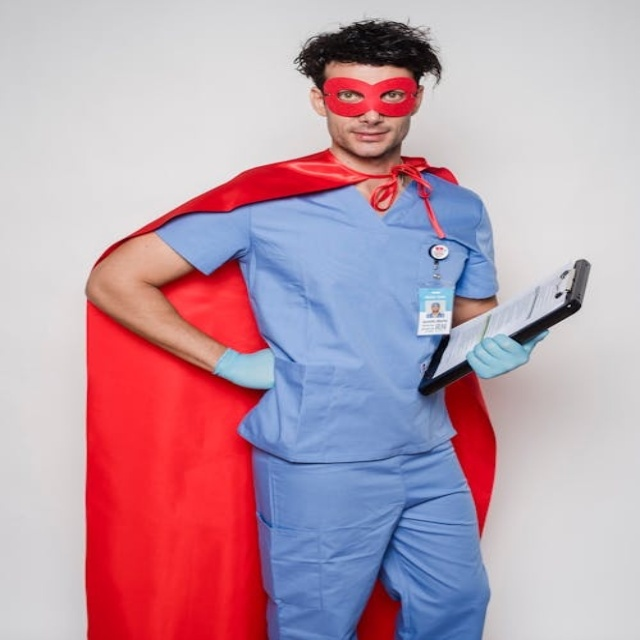Guantes: (467, 328, 548, 380), (212, 347, 275, 390)
Sin_mascara: (346, 125, 392, 153)
